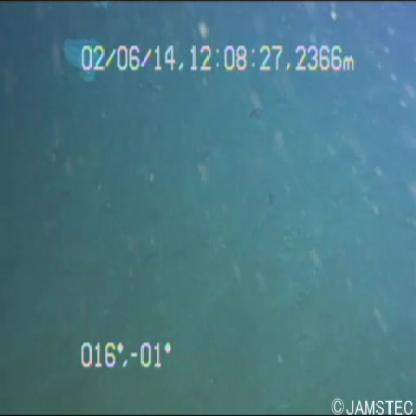Rác: (57, 21, 114, 91)
